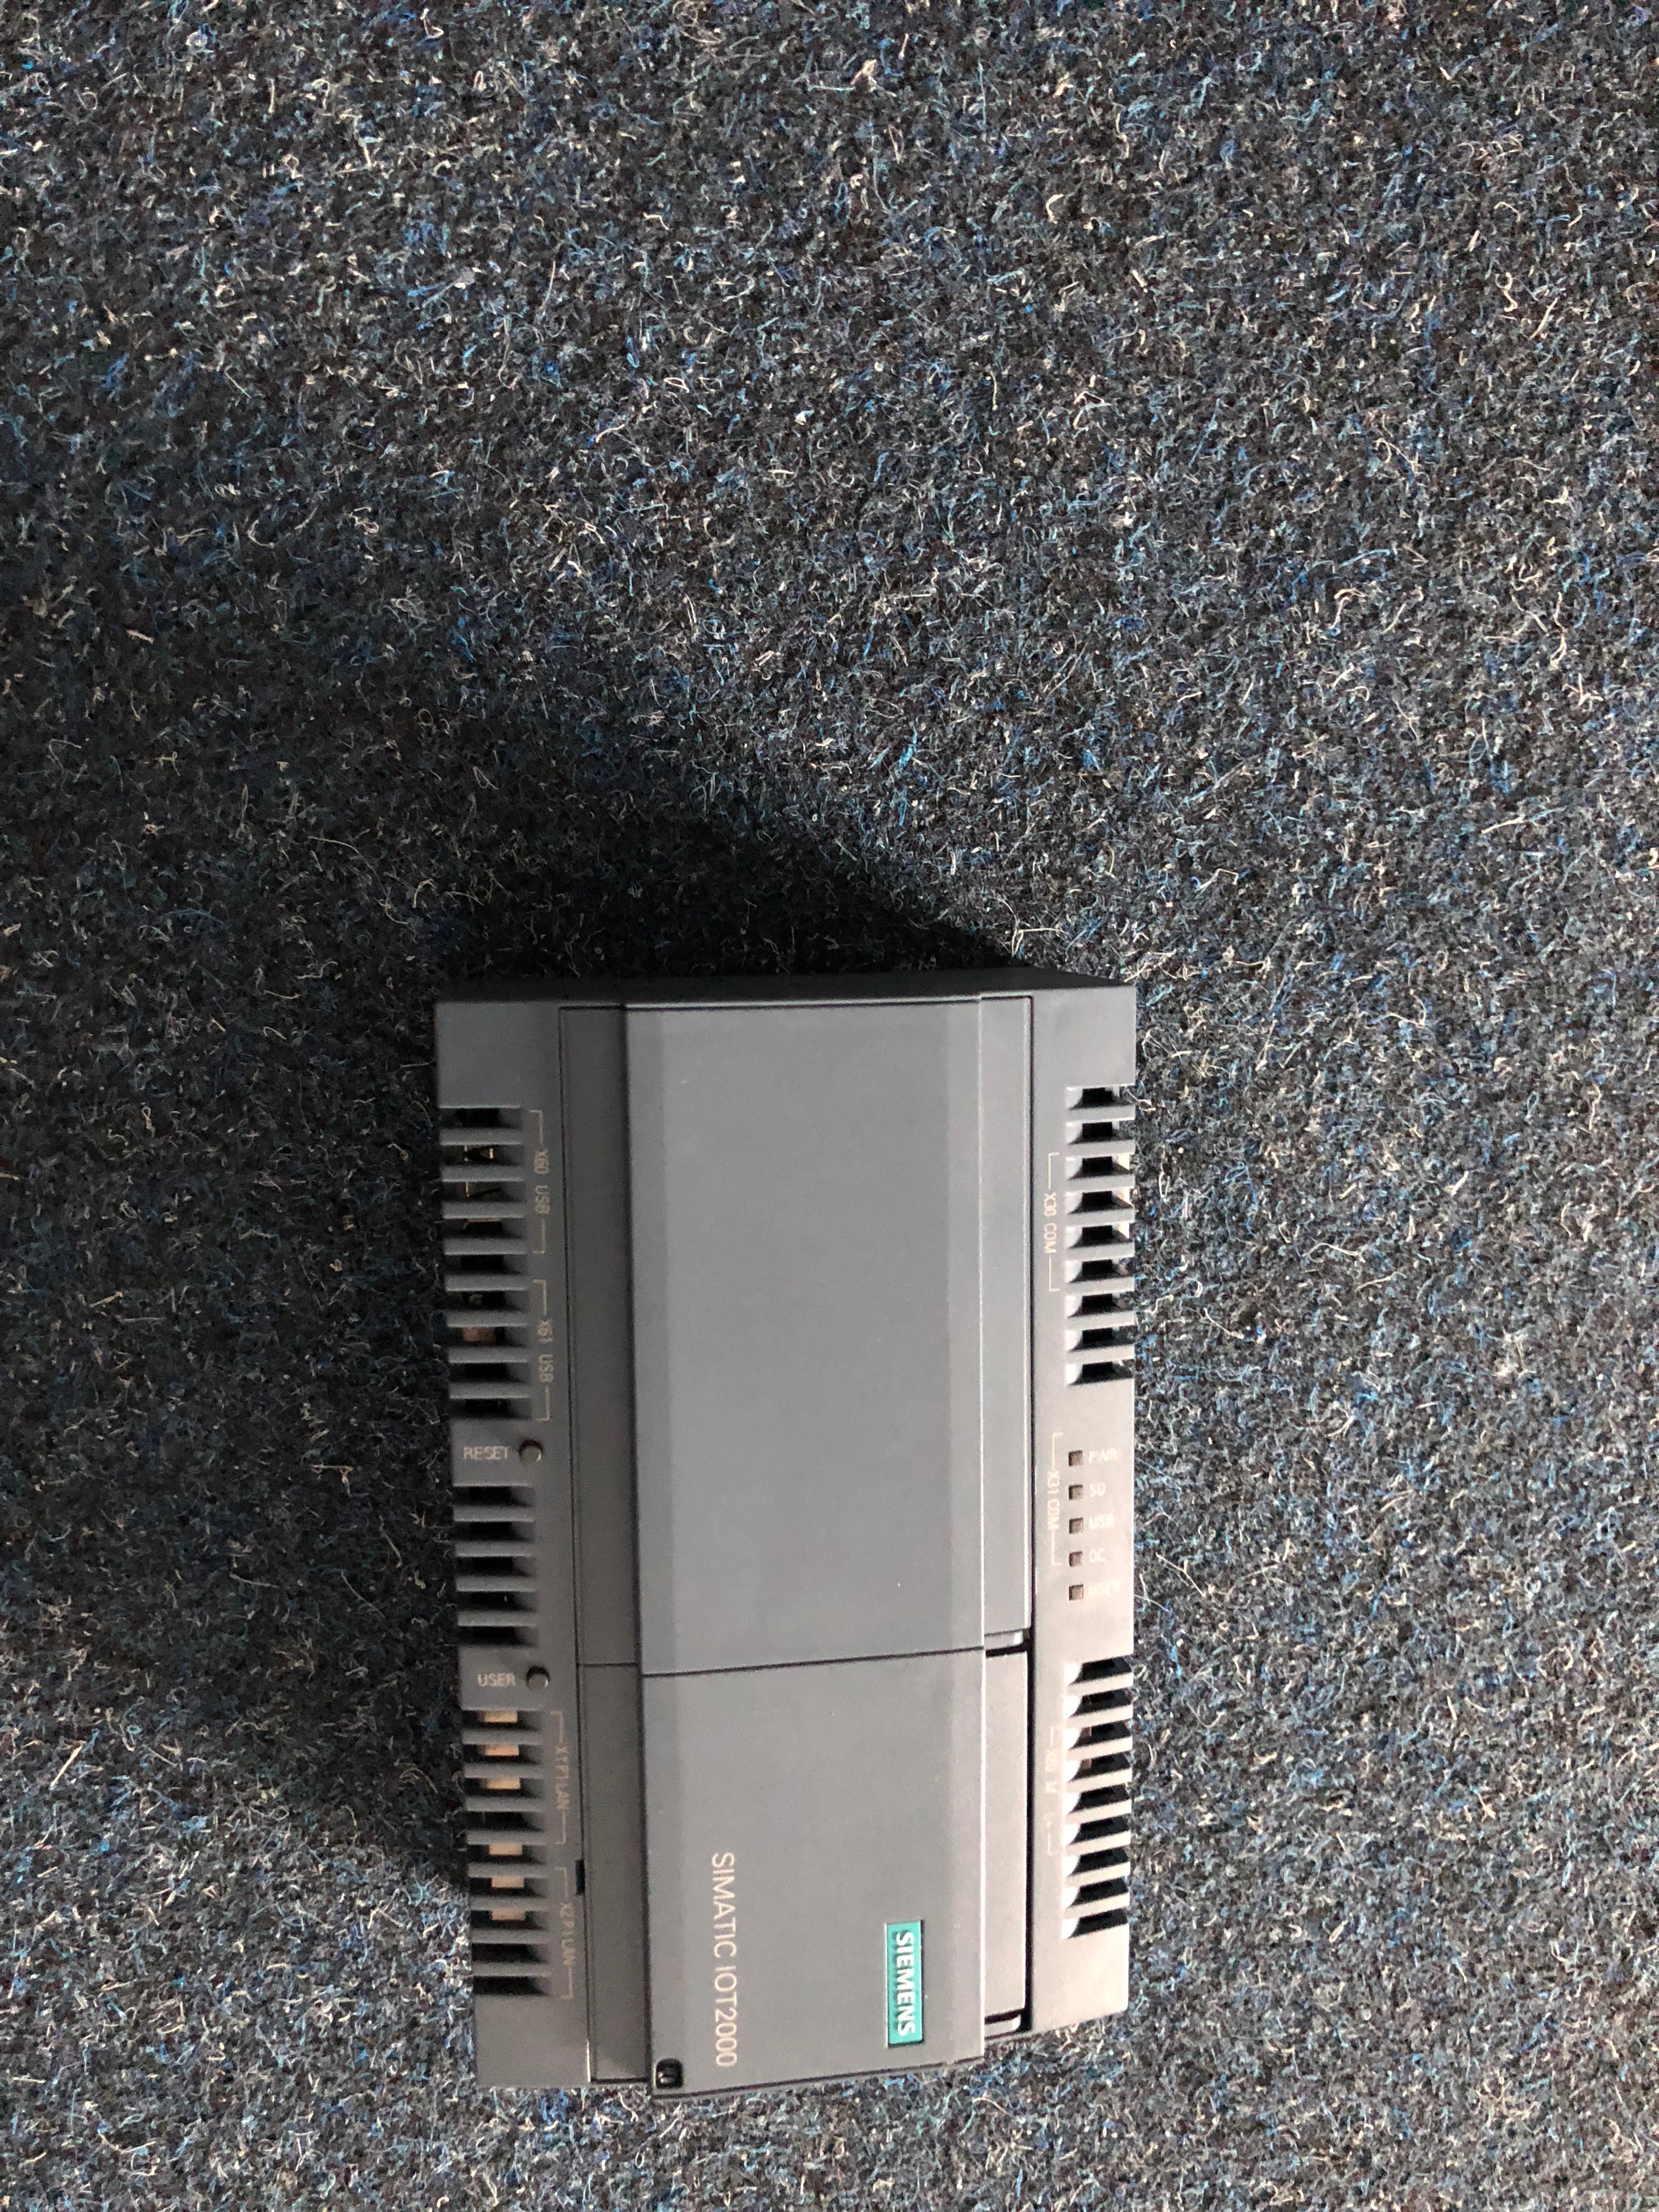device: (434, 967, 1136, 2101)
